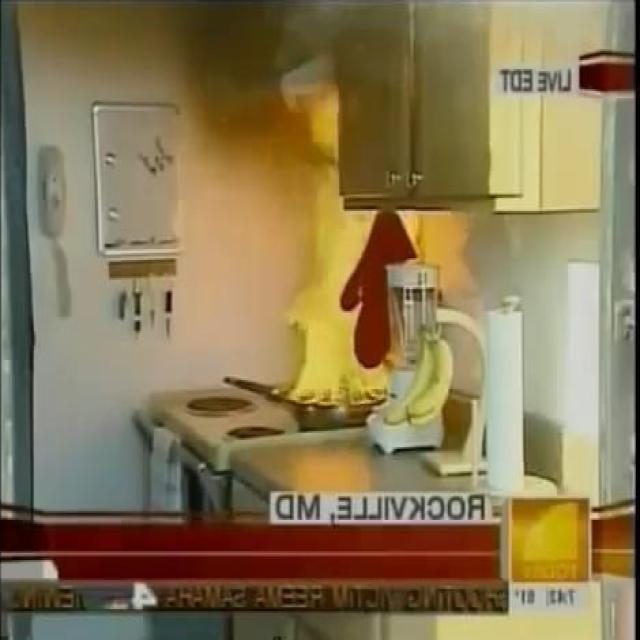fire: (261, 0, 634, 86)
smoke: (283, 85, 418, 411)
